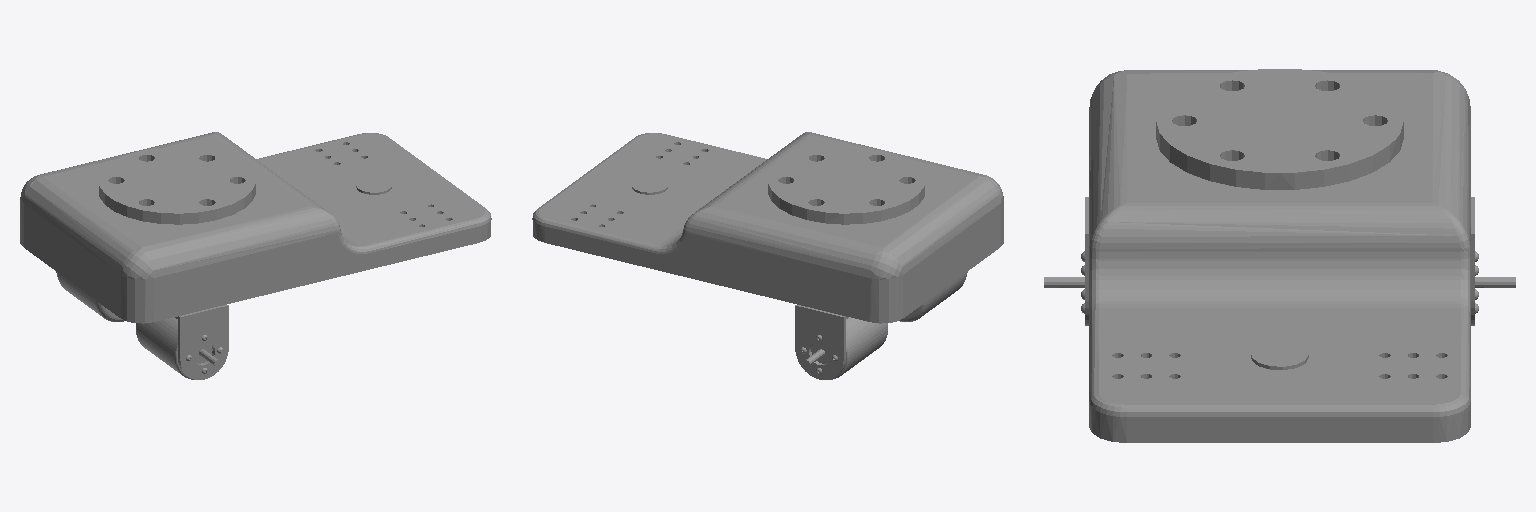
The robot description file, URDF, robot "warehouse_robots":
<?xml version="1.0" ?>
<!-- =================================================================================== -->
<!-- |    This document was autogenerated by xacro from warehouse_robots.urdf.xacro    | -->
<!-- |    EDITING THIS FILE BY HAND IS NOT RECOMMENDED                                 | -->
<!-- =================================================================================== -->
<robot name="warehouse_robots">
  <!-- Default material -->
  <material name="default_color">
    <color rgba="0.62745 0.62745 0.62745 1"/>
  </material>
  <!-- ===========================
       Base link
  ============================ -->
  <link name="base_link">
    <inertial>
      <origin rpy="0 0 0" xyz="0 0 0"/>
      <!-- <origin xyz="${-0.027013*S} ${-3.2999E-08*S} ${0.01722*S}" rpy="0 0 0"/> -->
      <!-- origin mass and inertia -->
      <!-- <mass value="3.777"/> -->
      <!-- <inertia ixx="0.011028" ixy="1.8783E-09" ixz="0.0017425"
               iyy="0.024419" iyz="-1.4644E-08" izz="0.03312"/> -->
      <!-- mass and inertia after scaling up -->
      <mass value="241.728"/>
      <inertia ixx="11.292672" ixy="1.923E-06" ixz="1.7664" iyy="25.005056" iyz="-1.500E-05" izz="33.91488"/>
    </inertial>
    <visual>
      <origin rpy="0 0 0" xyz="0 0 0"/>
      <geometry>
        <mesh filename="package://warehouse_robots/meshes/base_link.STL" scale="4.0 4.0 4.0"/>
      </geometry>
      <material name="default_color"/>
    </visual>
    <collision>
      <origin rpy="0 0 0" xyz="0 0 0"/>
      <geometry>
        <mesh filename="package://warehouse_robots/meshes/base_link.STL" scale="4.0 4.0 4.0"/>
      </geometry>
    </collision>
  </link>
  <link name="RB_wheel">
    <inertial>
      <origin rpy="0 0 0" xyz="0.0 0.0 -0.0300016"/>
      <mass value="0.082383"/>
      <inertia ixx="5.899E-05" ixy="0" ixz="0" iyy="5.899E-05" iyz="0" izz="0.0001153"/>
    </inertial>
    <visual>
      <origin rpy="0 0 0" xyz="0 0 0"/>
      <geometry>
        <mesh filename="package://warehouse_robots/meshes/RB_wheel.STL" scale="4.0 4.0 4.0"/>
      </geometry>
      <material name="default_color"/>
    </visual>
    <collision>
      <origin rpy="0 0 0" xyz="0 0 0"/>
      <geometry>
        <mesh filename="package://warehouse_robots/meshes/RB_wheel.STL" scale="4.0 4.0 4.0"/>
      </geometry>
    </collision>
  </link>
  <joint name="RB_wheel_joint" type="continuous">
    <origin rpy="1.5708 0 0" xyz="-0.43172 -0.494 -0.156"/>
    <parent link="base_link"/>
    <child link="RB_wheel"/>
    <axis xyz="0 0 -1"/>
    <limit effort="10" velocity="10"/>
    <dynamics damping="0.1" friction="0.1"/>
  </joint>
  <link name="RF_wheel">
    <inertial>
      <origin rpy="0 0 0" xyz="0.0 0.0 -0.0300016"/>
      <mass value="0.082383"/>
      <inertia ixx="5.899E-05" ixy="0" ixz="0" iyy="5.899E-05" iyz="0" izz="0.0001153"/>
    </inertial>
    <visual>
      <origin rpy="0 0 0" xyz="0 0 0"/>
      <geometry>
        <mesh filename="package://warehouse_robots/meshes/RF_wheel.STL" scale="4.0 4.0 4.0"/>
      </geometry>
      <material name="default_color"/>
    </visual>
    <collision>
      <origin rpy="0 0 0" xyz="0 0 0"/>
      <geometry>
        <mesh filename="package://warehouse_robots/meshes/RF_wheel.STL" scale="4.0 4.0 4.0"/>
      </geometry>
    </collision>
  </link>
  <joint name="RF_wheel_joint" type="continuous">
    <origin rpy="1.5708 0 0" xyz="0.48828 -0.494 -0.156"/>
    <parent link="base_link"/>
    <child link="RF_wheel"/>
    <axis xyz="0 0 -1"/>
    <limit effort="10" velocity="10"/>
    <dynamics damping="0.1" friction="0.1"/>
  </joint>
  <link name="LB_wheel">
    <inertial>
      <origin rpy="0 0 0" xyz="0.0 0.0 0.0299984"/>
      <mass value="0.082383"/>
      <inertia ixx="5.899E-05" ixy="0" ixz="0" iyy="5.899E-05" iyz="0" izz="0.0001153"/>
    </inertial>
    <visual>
      <origin rpy="0 0 0" xyz="0 0 0"/>
      <geometry>
        <mesh filename="package://warehouse_robots/meshes/LB_wheel.STL" scale="4.0 4.0 4.0"/>
      </geometry>
      <material name="default_color"/>
    </visual>
    <collision>
      <origin rpy="0 0 0" xyz="0 0 0"/>
      <geometry>
        <mesh filename="package://warehouse_robots/meshes/LB_wheel.STL" scale="4.0 4.0 4.0"/>
      </geometry>
    </collision>
  </link>
  <joint name="LB_wheel_joint" type="continuous">
    <origin rpy="1.5708 0 0" xyz="-0.43172 0.494 -0.156"/>
    <parent link="base_link"/>
    <child link="LB_wheel"/>
    <axis xyz="0 0 1"/>
    <limit effort="10" velocity="10"/>
    <dynamics damping="0.1" friction="0.1"/>
  </joint>
  <link name="LF_wheel">
    <inertial>
      <origin rpy="0 0 0" xyz="0.0 0.0 0.0299984"/>
      <mass value="0.082383"/>
      <inertia ixx="5.899E-05" ixy="0" ixz="0" iyy="5.899E-05" iyz="0" izz="0.0001153"/>
    </inertial>
    <visual>
      <origin rpy="0 0 0" xyz="0 0 0"/>
      <geometry>
        <mesh filename="package://warehouse_robots/meshes/LF_wheel.STL" scale="4.0 4.0 4.0"/>
      </geometry>
      <material name="default_color"/>
    </visual>
    <collision>
      <origin rpy="0 0 0" xyz="0 0 0"/>
      <geometry>
        <mesh filename="package://warehouse_robots/meshes/LF_wheel.STL" scale="4.0 4.0 4.0"/>
      </geometry>
    </collision>
  </link>
  <joint name="LF_wheel_joint" type="continuous">
    <origin rpy="1.5708 0 0" xyz="0.48828 0.494 -0.156"/>
    <parent link="base_link"/>
    <child link="LF_wheel"/>
    <axis xyz="0 0 1"/>
    <limit effort="10" velocity="10"/>
    <dynamics damping="0.1" friction="0.1"/>
  </joint>
  <!-- Diff Drive Plugin -->
  <plugin filename="libignition-gazebo-diff-drive-system.so" name="ignition::gazebo::systems::DiffDrive">
    <left_joint>LF_wheel_joint</left_joint>
    <left_joint>LB_wheel_joint</left_joint>
    <right_joint>RF_wheel_joint</right_joint>
    <right_joint>RB_wheel_joint</right_joint>
    <wheel_separation>0.988</wheel_separation>
    <wheel_radius>0.2</wheel_radius>
    <!-- Control topic -->
    <topic>cmd_vel</topic>
  </plugin>
</robot>

--- What the picture shows (computed from the rendered views, not written in the file) ---
3 views of the same robot in one strip: view 1: azimuth 30°, elevation 25°; view 2: azimuth 150°, elevation 25°; view 3: azimuth 270°, elevation 25° (orthographic).
Model warehouse_robots with 5 links and 4 joints (4 continuous), rooted at base_link, posed all joints at 0.
Links seen in each view (by area): view 1: base_link; view 2: base_link; view 3: base_link.
Link boxes in pixels (box(x1,y1,x2,y2)): base_link: box(20, 132, 491, 379); base_link: box(532, 132, 1003, 379); base_link: box(1044, 69, 1515, 442).
Bounding box of the posed robot: 6.3 × 4.45 × 2.41 m (x, y, z).
1 mesh visuals loaded from 5 distinct referenced files (1 binary STL); not drawn: 4 (reference not matched to a file when rendering).